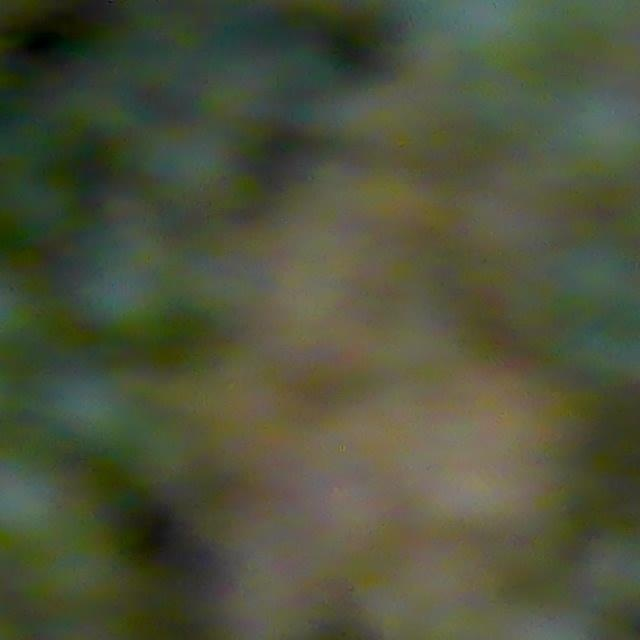SeaGrape: (536, 63, 640, 173), (436, 0, 546, 78), (551, 236, 640, 326)
